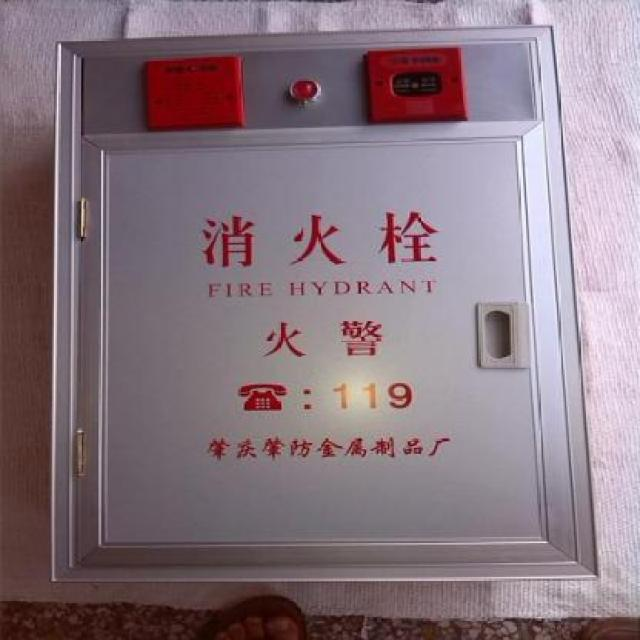firehydrant: (41, 20, 607, 586)
